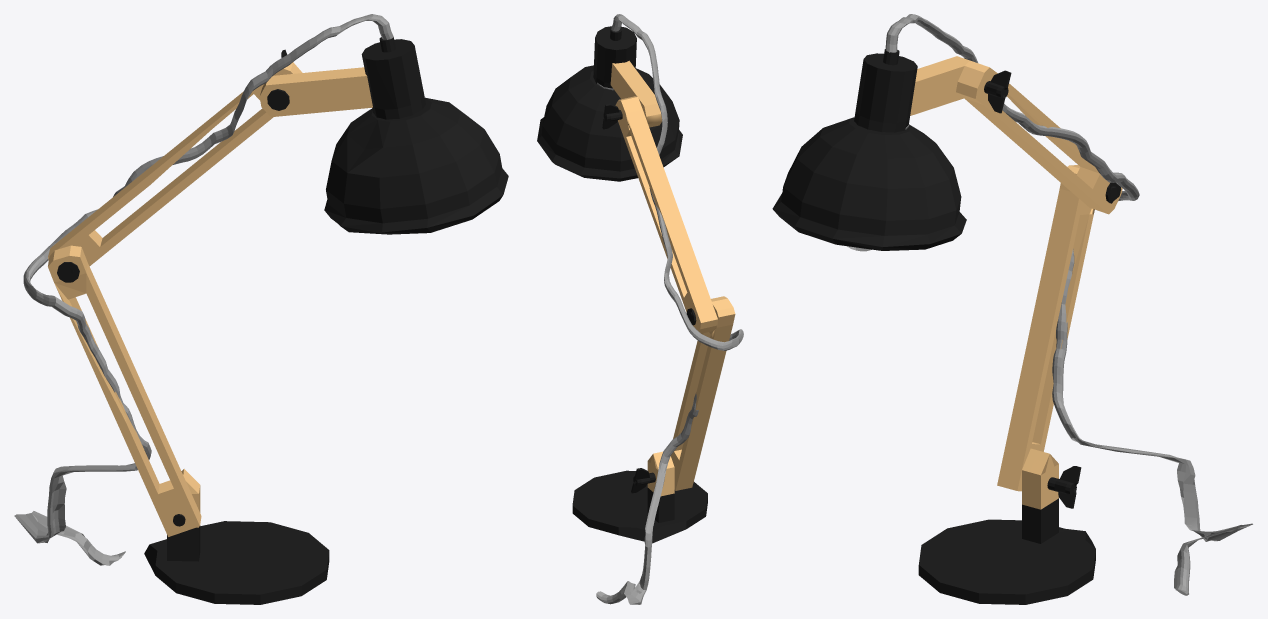
Rendered from fleso.glb.
3 renders of one model, left to right at view 1: azimuth 30°, elevation 25°; view 2: azimuth 150°, elevation 25°; view 3: azimuth 270°, elevation 25°, orthographic. The views are drawn at different scales.
Parts seen in each view (by area): view 1: fleso; view 2: fleso; view 3: fleso.
Boxes of the visible parts, box(x1,y1,x2,y2) form: fleso: box(14, 14, 508, 604); fleso: box(537, 14, 743, 604); fleso: box(772, 14, 1252, 604).
Bounding box in the file's own units: 0.8108 × 1.35 × 0.9315.
